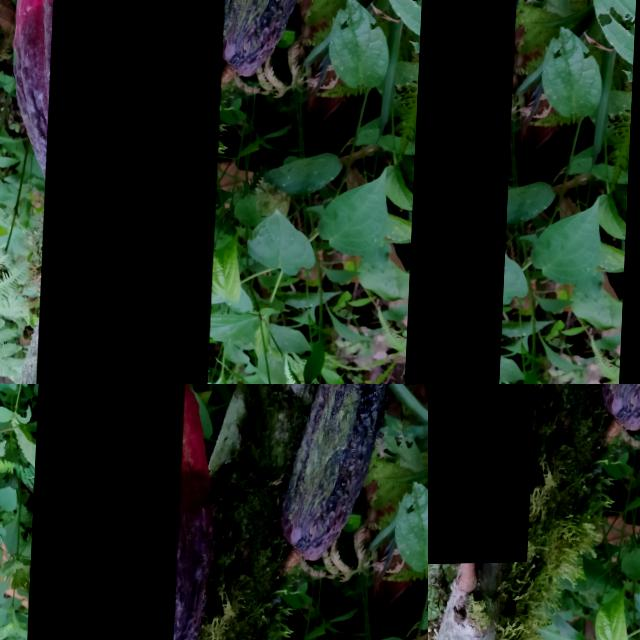Fitoftora: (42, 0, 234, 384), (25, 384, 190, 640), (428, 384, 543, 565)
Monilia: (428, 0, 524, 384)
